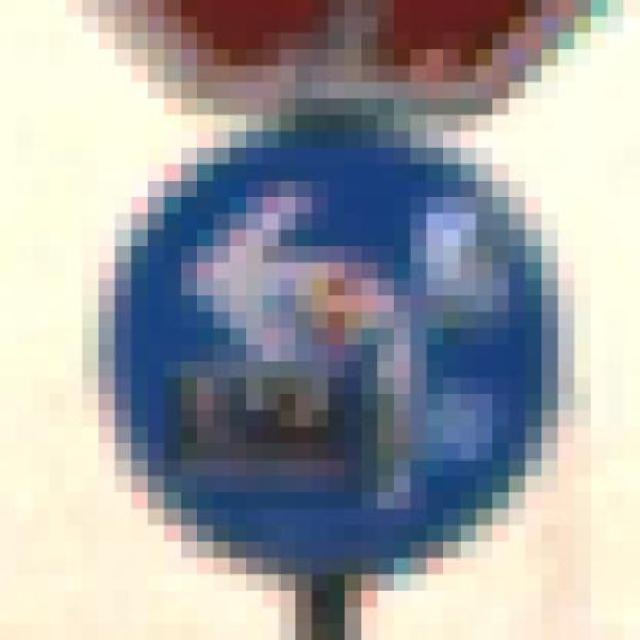Turn left ahead: (98, 82, 574, 575)
